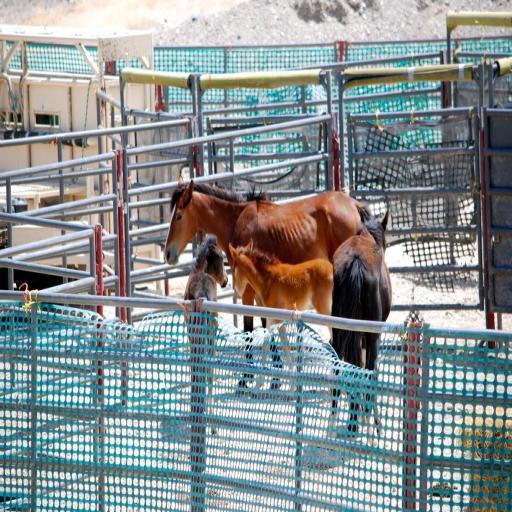Horse: (161, 171, 371, 394), (226, 236, 334, 401), (330, 208, 394, 454), (182, 232, 228, 440)
